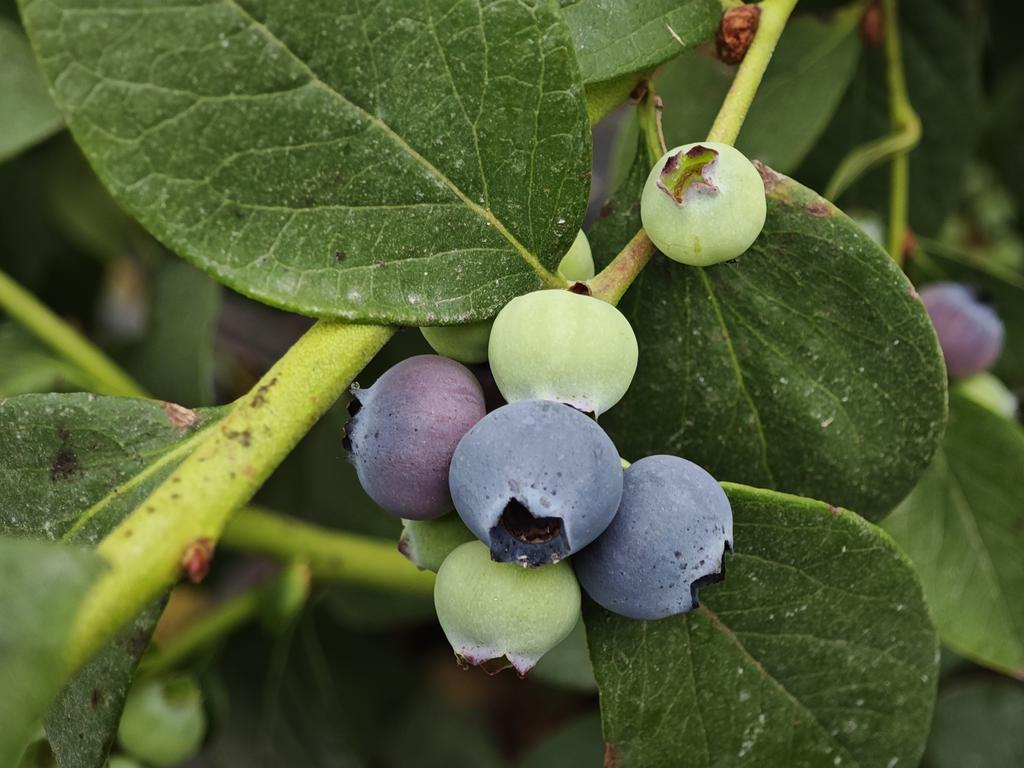RipeBlueBerry: (452, 398, 624, 566), (347, 348, 486, 519), (589, 454, 734, 616)
UnripeBlueBerry: (437, 544, 579, 678), (490, 290, 640, 409), (642, 140, 767, 267)
